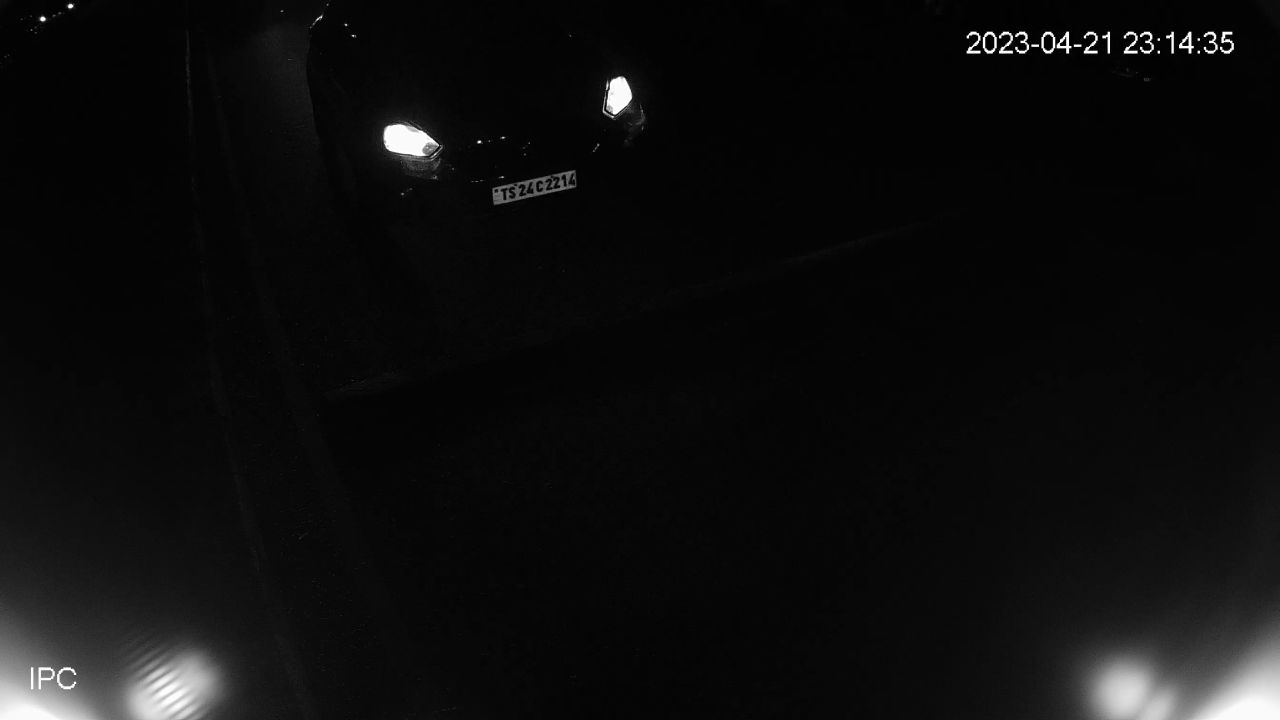license_plate: (486, 166, 581, 213)
